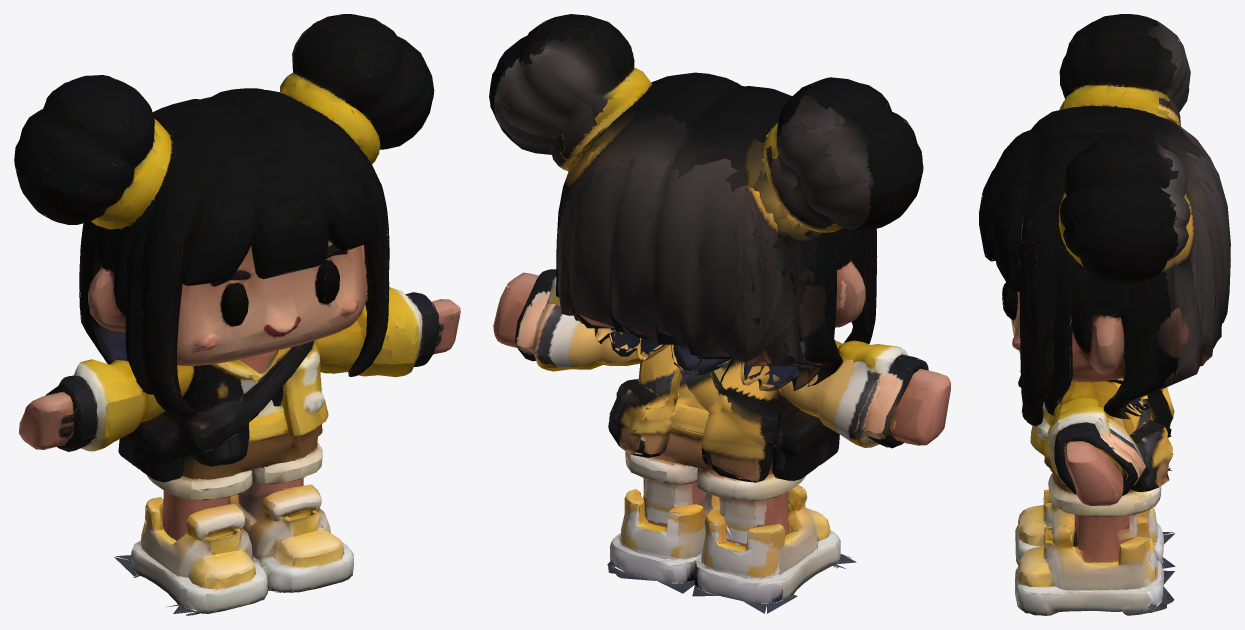
Rendered from mika_final.glb.
3 renders of one model, left to right at view 1: azimuth 30°, elevation 25°; view 2: azimuth 150°, elevation 25°; view 3: azimuth 270°, elevation 25°, orthographic. The views are drawn at different scales.
Visible parts, largest first — view 1: Body; view 2: Body; view 3: Body.
Boxes of the visible parts, x1,y1,x2,y2 form: Body: (14,14,460,615); Body: (489,14,950,613); Body: (979,14,1230,615).
Size of the model in its own units: 0.6302 by 0.72 by 0.3318.
1 material, 1 textured.
